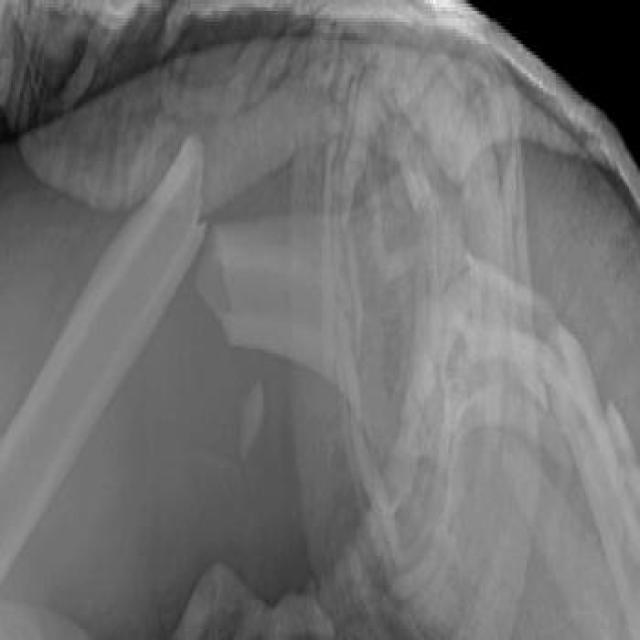Fracture: (180, 116, 235, 370)
